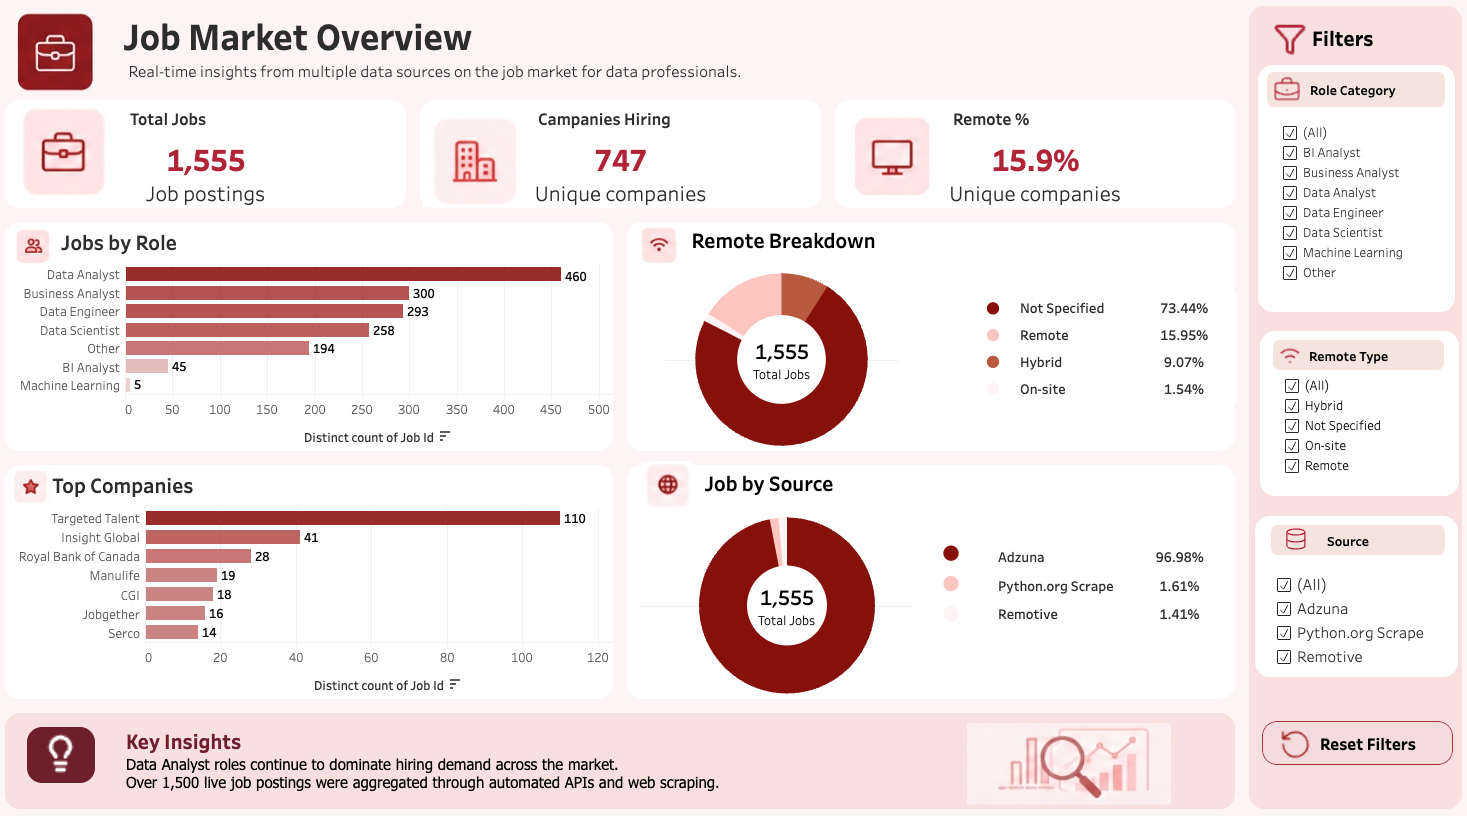

What the dashboard file says about the page in this screenshot:
{"tool":"tableau","page":{"name":"Job Market Overview","canvas":[1000,1000],"units":"permille","ordinal":0},"visuals":[{"type":"title","box":[5.3,8.2,837,117.7]},{"type":"image","param":"Image/Screenshot 2026-05-27 at 5.02.37 PM.png","box":[17.3,24.6,130.1,103.4]},{"type":"image","param":"Image/funnel.png","box":[862.6,36.9,25.1,40.9]},{"type":"text","box":[889,40.9,66,30.7]},{"type":"image","param":"Image/briefcase-business (1).png","box":[862.6,102.4,24.4,33.8]},{"type":"text","box":[887.7,102.4,73.3,30.7]},{"type":"worksheet","title":"Total Jobs","mark":"Automatic","box":[5.3,125.9,279.5,142.3]},{"type":"worksheet","title":"Campanies Hiring","mark":"Automatic","box":[284.9,125.9,278.9,142.3]},{"type":"worksheet","title":"Remote %","mark":"Automatic","box":[563.7,125.9,278.9,142.3]},{"type":"image","param":"Image/Screenshot 2026-05-27 at 5.06.24 PM.png","box":[19.2,147.4,108.3,103.4]},{"type":"image","param":"Image/Screenshot 2026-05-27 at 5.11.16 PM.png","box":[579.3,149.4,90.5,101.3]},{"type":"image","param":"Image/Screenshot 2026-05-27 at 5.08.02 PM.png","box":[291.3,151.5,69.4,107.5]},{"type":"filter","title":"RC filter","param":"[federated.1xmdcs10bw2z8q12p8xnv09uatzz].[none:role_category:nk]","box":[866.6,157.6,105.7,206.8]},{"type":"worksheet","title":"Jobs by Role","mark":"Automatic","rows":["role_category"],"cols":["job_id"],"box":[5.3,267.8,418.4,294.4]},{"type":"text","box":[428.4,275,409.2,280.1]},{"type":"image","param":"Image/Screenshot 2026-05-27 at 5.13.33 PM.png","box":[14.7,284.5,43.4,45]},{"type":"image","param":"Image/Screenshot 2026-05-27 at 5.18.42 PM.png","box":[440.9,286.6,35.3,47.1]},{"type":"worksheet","title":"RC filter","mark":"Automatic","box":[941.2,333.7,23.1,19.4]},{"type":"worksheet","title":"Remote Breakdown","mark":"Pie","rows":["Calculation_1876595963170841","Calculation_1876595963191323"],"box":[444.6,337.8,217,209.8]},{"type":"worksheet","title":"RT Legend 2","mark":"Text","rows":["remote_type"],"box":[688.5,363.4,149.9,130]},{"type":"worksheet","title":"RT Legend","mark":"Circle","rows":["remote_type"],"box":[657.5,365.4,34,127.9]},{"type":"image","param":"Image/wifi-high.png","box":[863.9,415.6,26.4,35.8]},{"type":"text","box":[887.1,421.7,73.3,30.7]},{"type":"filter","title":"RT filter","param":"[federated.1xmdcs10bw2z8q12p8xnv09uatzz].[none:remote_type:nk]","box":[867.9,460.6,105.7,141.2]},{"type":"worksheet","title":"Top Companies","mark":"Automatic","rows":["company_clean"],"cols":["job_id"],"box":[5.3,562.2,418.4,297.5]},{"type":"text","box":[428.4,569.4,409.3,54.2]},{"type":"image","param":"Image/Screenshot 2026-05-27 at 5.21.05 PM.png","box":[426.7,570.1,69.4,66.5]},{"type":"image","param":"Image/Screenshot 2026-05-27 at 5.16.52 PM.png","box":[13.9,572.2,42.9,65.5]},{"type":"worksheet","title":"Job By Source","mark":"Pie","rows":["Calculation_1876595963170841","Calculation_1876595963191323"],"box":[437,633.6,209.5,206.8]},{"type":"image","param":"Image/database.png","box":[869.9,643.8,23.1,28.7]},{"type":"text","box":[899.3,643.8,72.7,30.7]},{"type":"worksheet","title":"JB Legend","mark":"Circle","rows":["source"],"box":[637,659.2,53.6,109.5]},{"type":"worksheet","title":"JB Legend 2","mark":"Text","rows":["source"],"box":[673.8,661.2,157.2,103.4]},{"type":"worksheet","title":"RT filter","mark":"Automatic","box":[957.7,682.7,16.5,32.8]},{"type":"filter","title":"source filter","param":"[federated.1xmdcs10bw2z8q12p8xnv09uatzz].[none:source:nk]","box":[862.6,697,113,113.6]},{"type":"worksheet","title":"source filter","mark":"Automatic","box":[947.2,773.8,5.3,5.1]},{"type":"text","box":[91.2,862.9,531.7,116.7]},{"type":"image","param":"Image/Screenshot 2026-05-27 at 6.15.57 PM.png","box":[657.2,879.2,153.2,98.3]},{"type":"image","param":"Image/rotate-ccw.png","box":[866.6,884.3,23.8,39.9]},{"type":"text","box":[894.3,887.4,73.3,30.7]},{"type":"image","param":"Image/lightbulb (1).png","box":[34.5,891.5,27.9,47.1]}]}

Visuals, with their boxes on the dashboard's canvas, which has no fixed pixel size, in thousandths of its width and height (x1, y1, x2, y2). These are canvas units, not pixel positions in the 1467x816 screenshot, which may show the page scaled, cropped or inside an application window:
title: [x1=5, y1=8, x2=842, y2=126]
image: [x1=17, y1=25, x2=147, y2=128]
image: [x1=863, y1=37, x2=888, y2=78]
text: [x1=889, y1=41, x2=955, y2=72]
image: [x1=863, y1=102, x2=887, y2=136]
text: [x1=888, y1=102, x2=961, y2=133]
"Total Jobs" worksheet: [x1=5, y1=126, x2=285, y2=268]
"Campanies Hiring" worksheet: [x1=285, y1=126, x2=564, y2=268]
"Remote %" worksheet: [x1=564, y1=126, x2=843, y2=268]
image: [x1=19, y1=147, x2=128, y2=251]
image: [x1=579, y1=149, x2=670, y2=251]
image: [x1=291, y1=152, x2=361, y2=259]
"RC filter" filter: [x1=867, y1=158, x2=972, y2=364]
"Jobs by Role" worksheet: [x1=5, y1=268, x2=424, y2=562]
text: [x1=428, y1=275, x2=838, y2=555]
image: [x1=15, y1=284, x2=58, y2=330]
image: [x1=441, y1=287, x2=476, y2=334]
"RC filter" worksheet: [x1=941, y1=334, x2=964, y2=353]
"Remote Breakdown" worksheet (Pie marks): [x1=445, y1=338, x2=662, y2=548]
"RT Legend 2" worksheet (Text marks): [x1=688, y1=363, x2=838, y2=493]
"RT Legend" worksheet (Circle marks): [x1=658, y1=365, x2=692, y2=493]
image: [x1=864, y1=416, x2=890, y2=451]
text: [x1=887, y1=422, x2=960, y2=452]
"RT filter" filter: [x1=868, y1=461, x2=974, y2=602]
"Top Companies" worksheet: [x1=5, y1=562, x2=424, y2=860]
text: [x1=428, y1=569, x2=838, y2=624]
image: [x1=427, y1=570, x2=496, y2=637]
image: [x1=14, y1=572, x2=57, y2=638]
"Job By Source" worksheet (Pie marks): [x1=437, y1=634, x2=646, y2=840]
image: [x1=870, y1=644, x2=893, y2=672]
text: [x1=899, y1=644, x2=972, y2=674]
"JB Legend" worksheet (Circle marks): [x1=637, y1=659, x2=691, y2=769]
"JB Legend 2" worksheet (Text marks): [x1=674, y1=661, x2=831, y2=765]
"RT filter" worksheet: [x1=958, y1=683, x2=974, y2=716]
"source filter" filter: [x1=863, y1=697, x2=976, y2=811]
"source filter" worksheet: [x1=947, y1=774, x2=952, y2=779]
text: [x1=91, y1=863, x2=623, y2=980]
image: [x1=657, y1=879, x2=810, y2=978]
image: [x1=867, y1=884, x2=890, y2=924]
text: [x1=894, y1=887, x2=968, y2=918]
image: [x1=34, y1=892, x2=62, y2=939]
